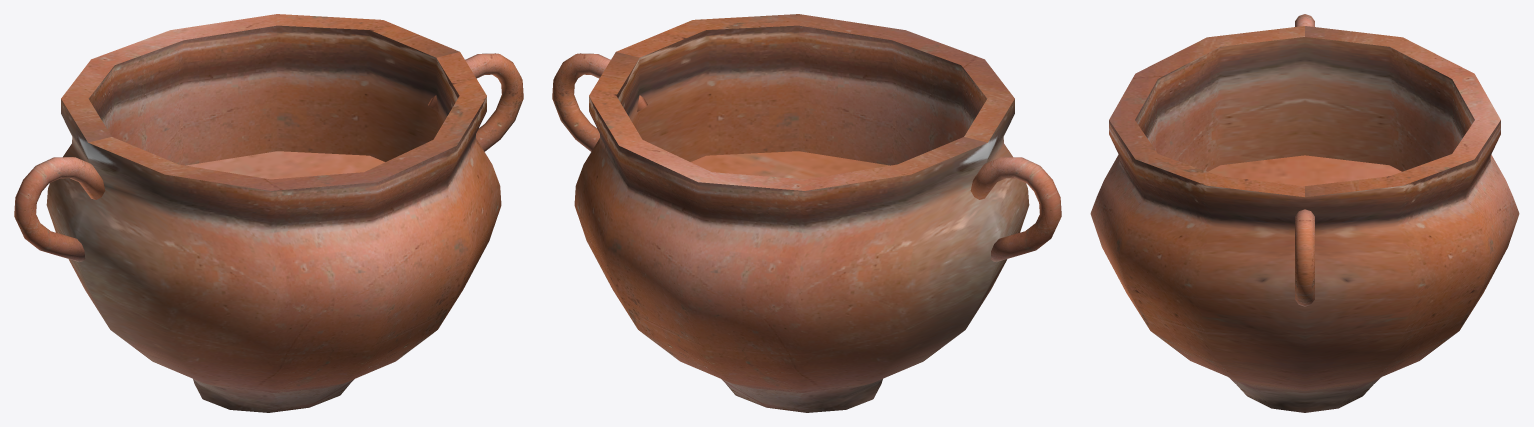
Rendered from amphora2.fbx.
The picture shows the model from 3 angles, left to right: view 1: azimuth 30°, elevation 25°; view 2: azimuth 150°, elevation 25°; view 3: azimuth 270°, elevation 25°; orthographic projection. The views are drawn at different scales.
Parts seen in each view (by area): view 1: amphora2; view 2: amphora2; view 3: amphora2.
Part boxes in pixels (<box>): amphora2: <box>14,14,523,412</box>; amphora2: <box>552,14,1061,412</box>; amphora2: <box>1090,14,1519,412</box>.
Bounding box in the file's own units: 28.23 × 15.15 × 21.94.
